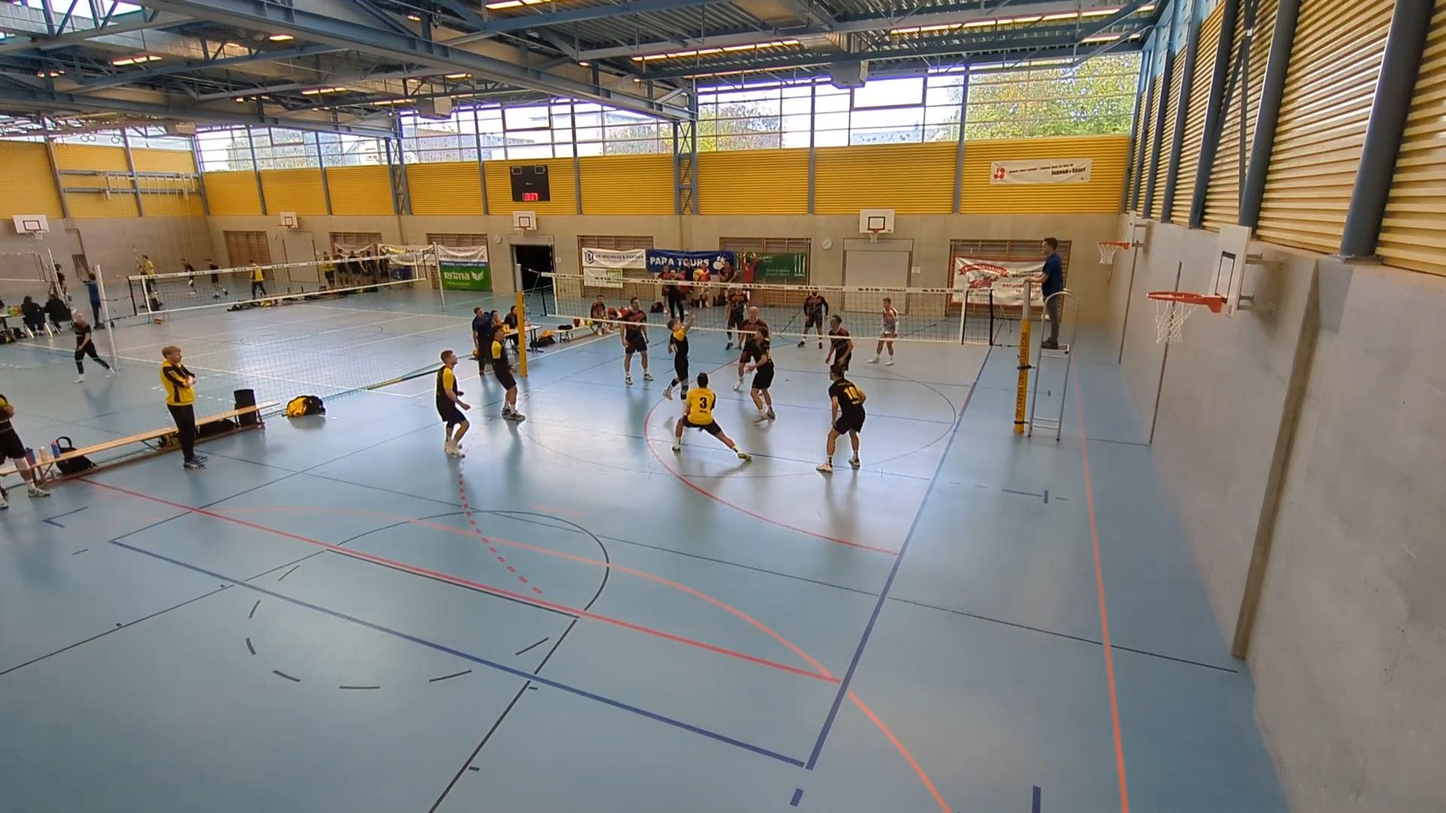muro: (663, 303, 699, 401)
